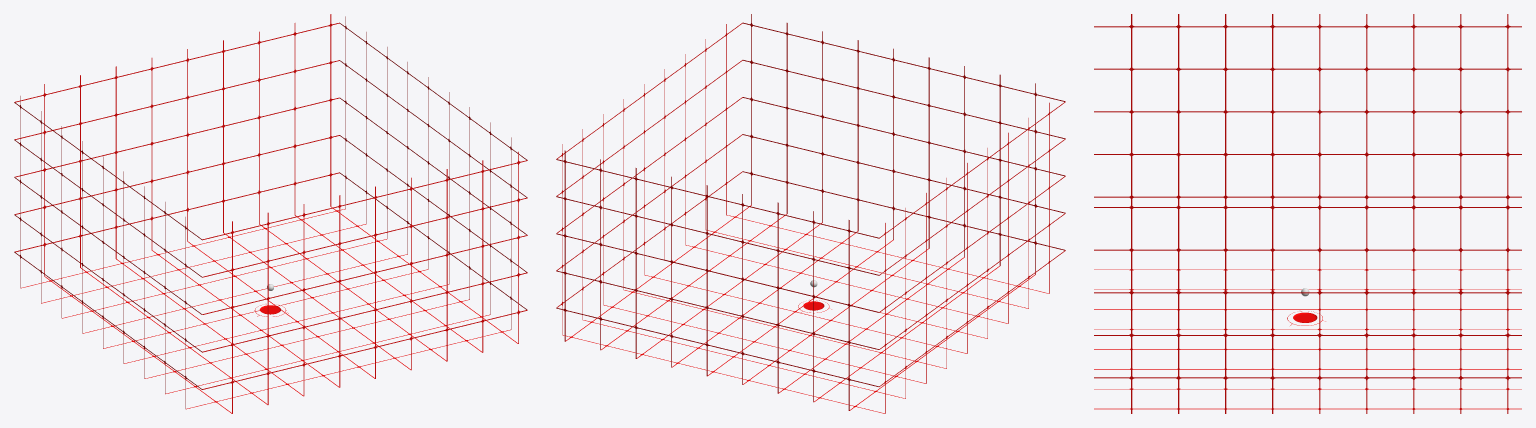
Rendered from LightWithoutMove.glb.
3 views of the same model, side by side, from view 1: azimuth 30°, elevation 25°; view 2: azimuth 150°, elevation 25°; view 3: azimuth 270°, elevation 25° (orthographic). The views are drawn at different scales.
Parts seen in each view (by area): view 1: 物件_56; view 2: 物件_56; view 3: 物件_56.
Boxes of the visible parts, box(x1,y1,x2,y2) form: 物件_56: box(14, 14, 527, 413); 物件_56: box(556, 14, 1065, 413); 物件_56: box(1094, 14, 1521, 413).
Bounding box in the file's own units: 2.43 × 1.37 × 2.43.
